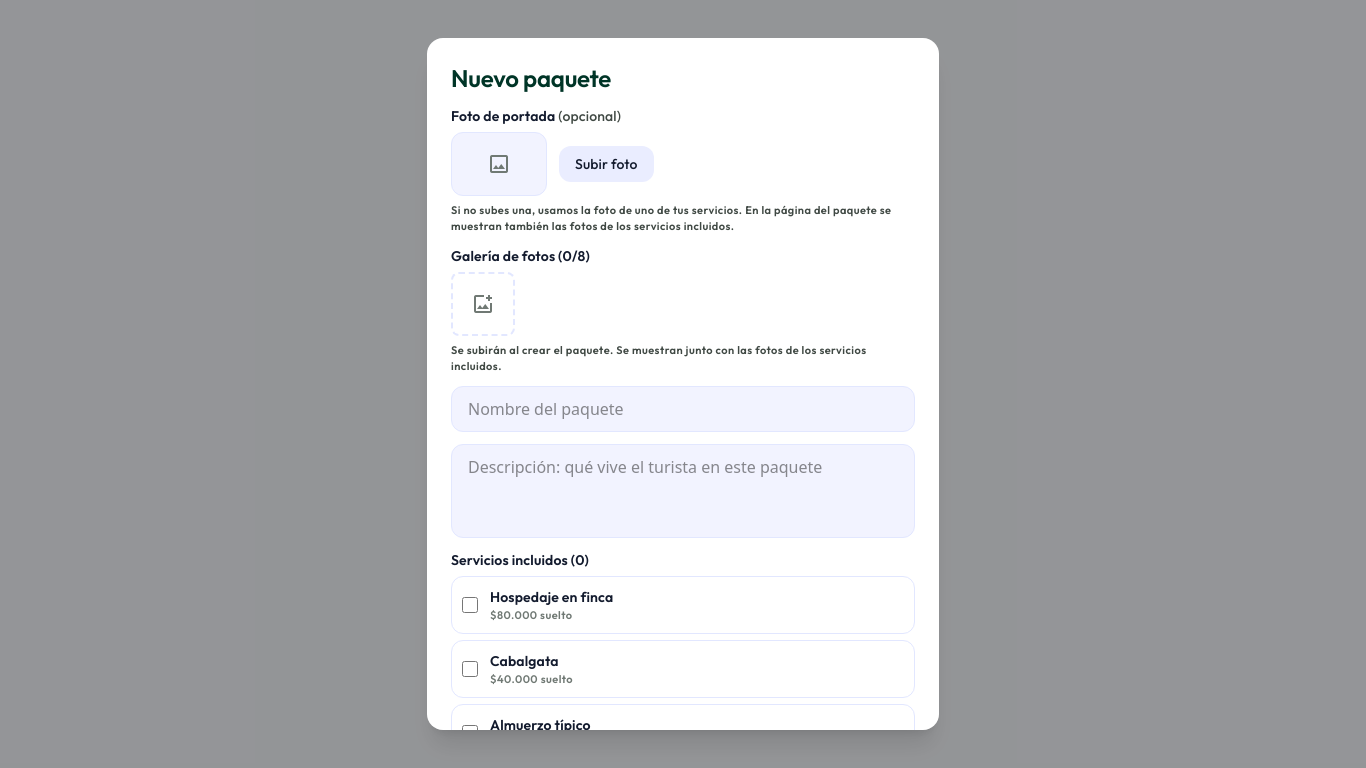
Test: ModalPaquete › exige elegir al menos 2 servicios
The width and height of the screenshot is (1366, 768).
Type "Fin de semana" into the field with placeholder "Nombre del paquete" at [683, 409], box [451,386,915,432]
(page scrolled)
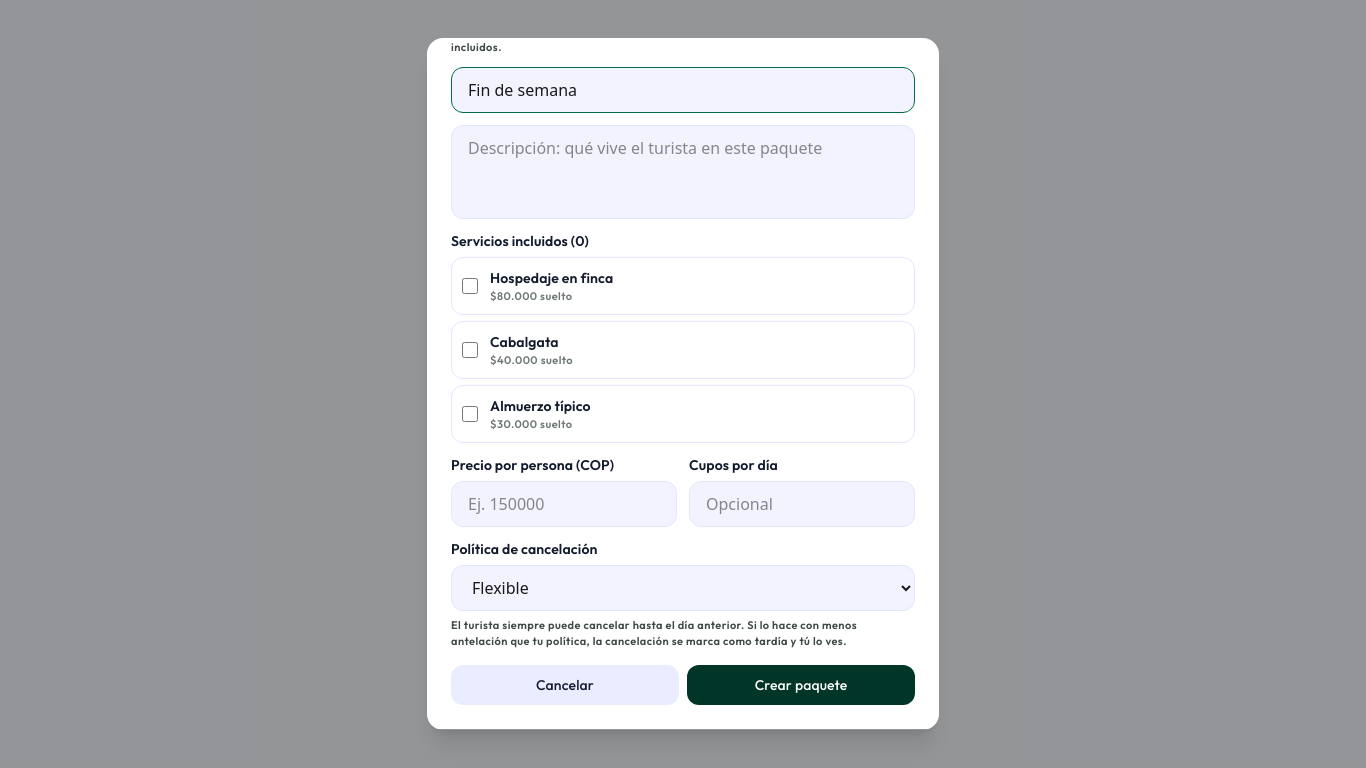
Type "100000" into the number field with placeholder "Ej. 150000" at [564, 504], box [451,481,677,527]
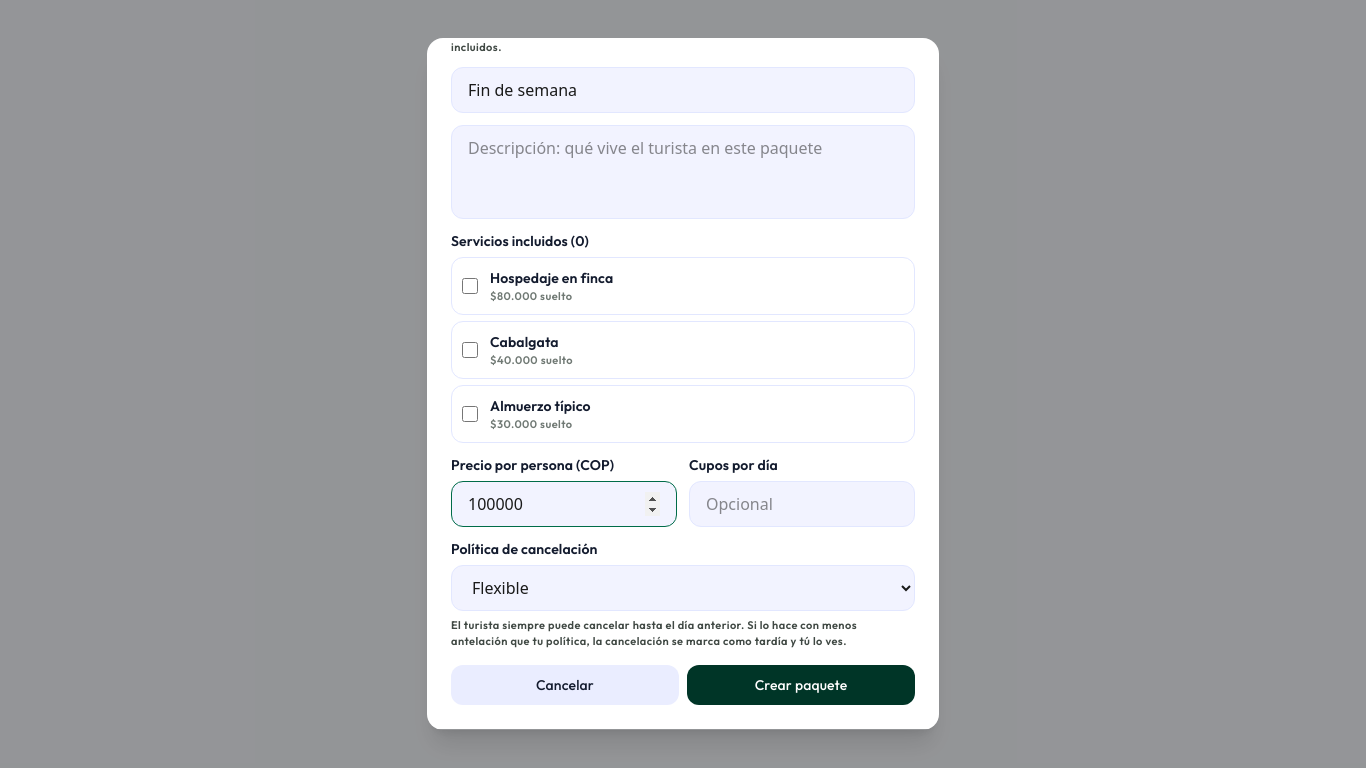
Click the checkbox labelled "Hospedaje en finca $80.000 suelto" at [470, 286], box [462,278,478,294]
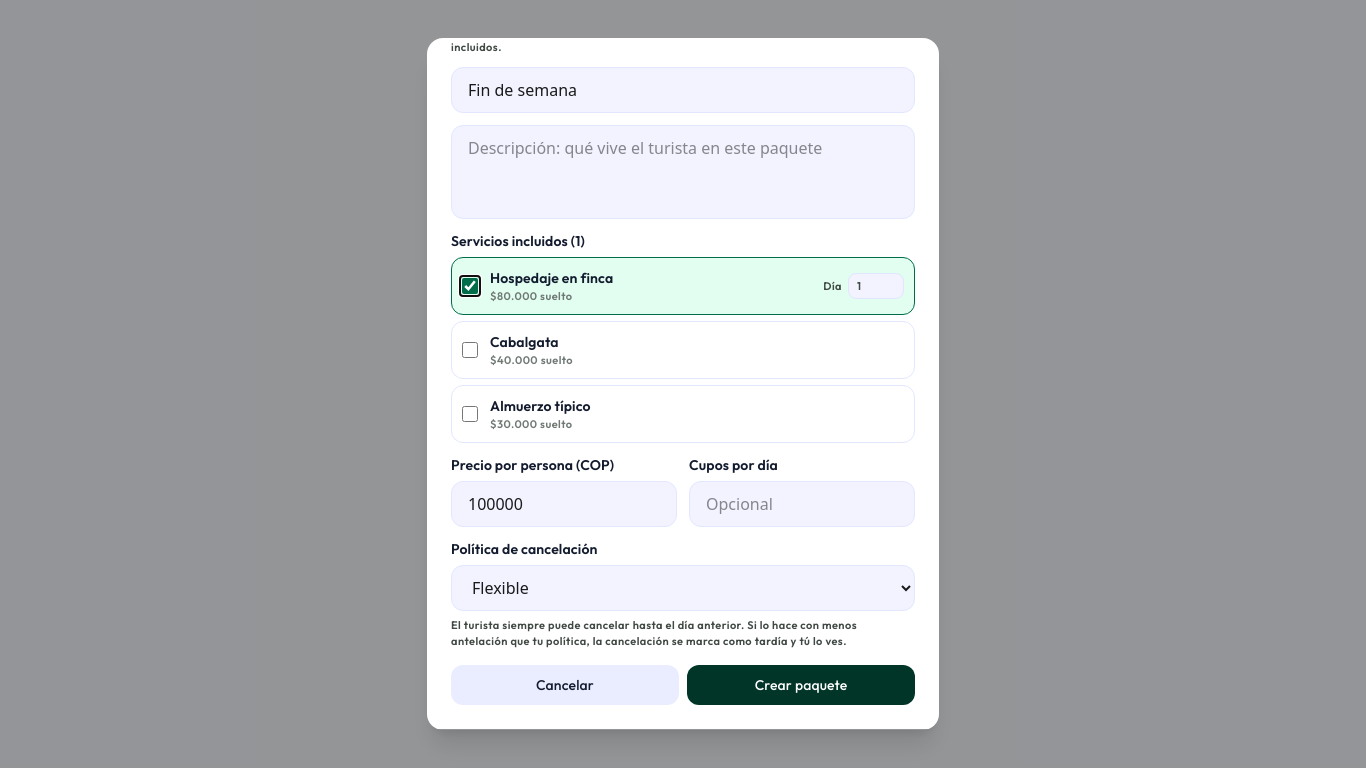
Click the button "Crear paquete" at [801, 685], box [687,665,915,705]
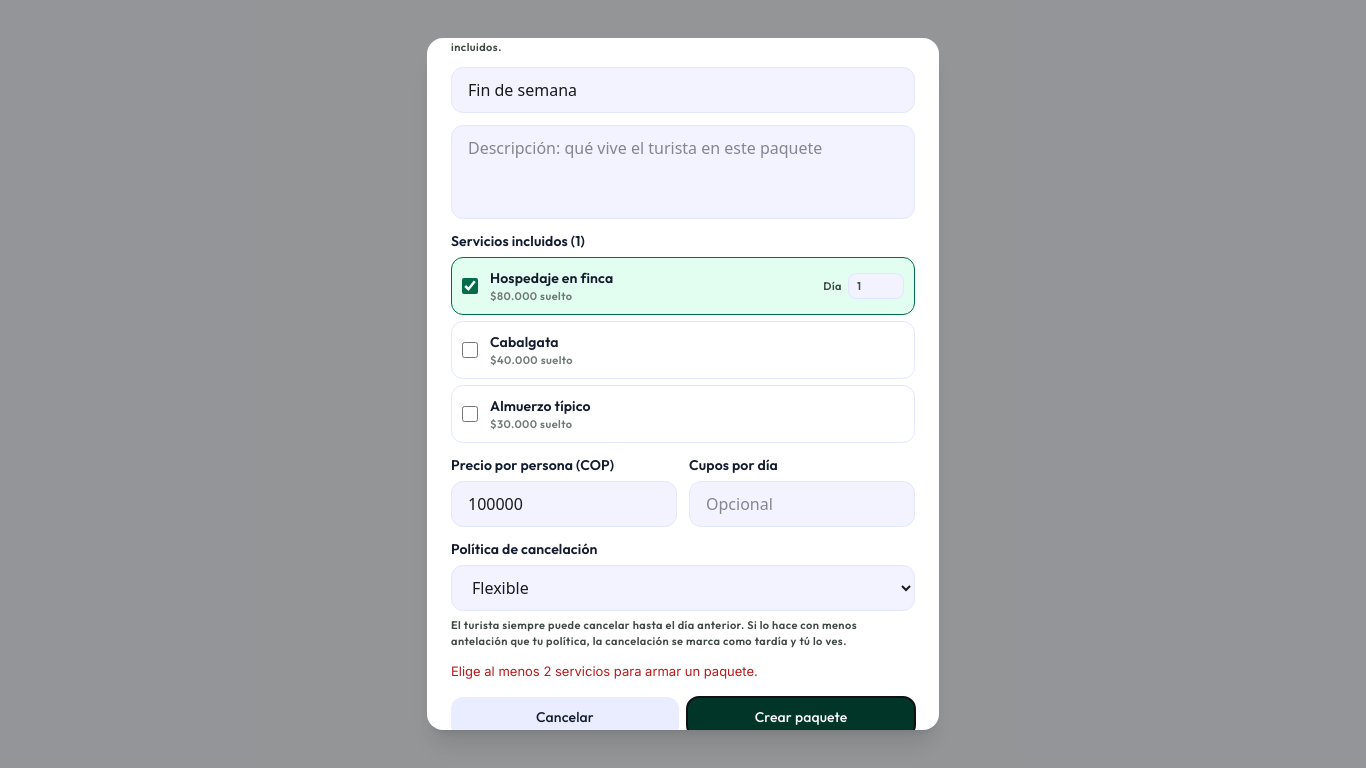
expect the text "Elige al menos 2 servicios para armar un paquete." is shown: met, box [451,663,758,679]
